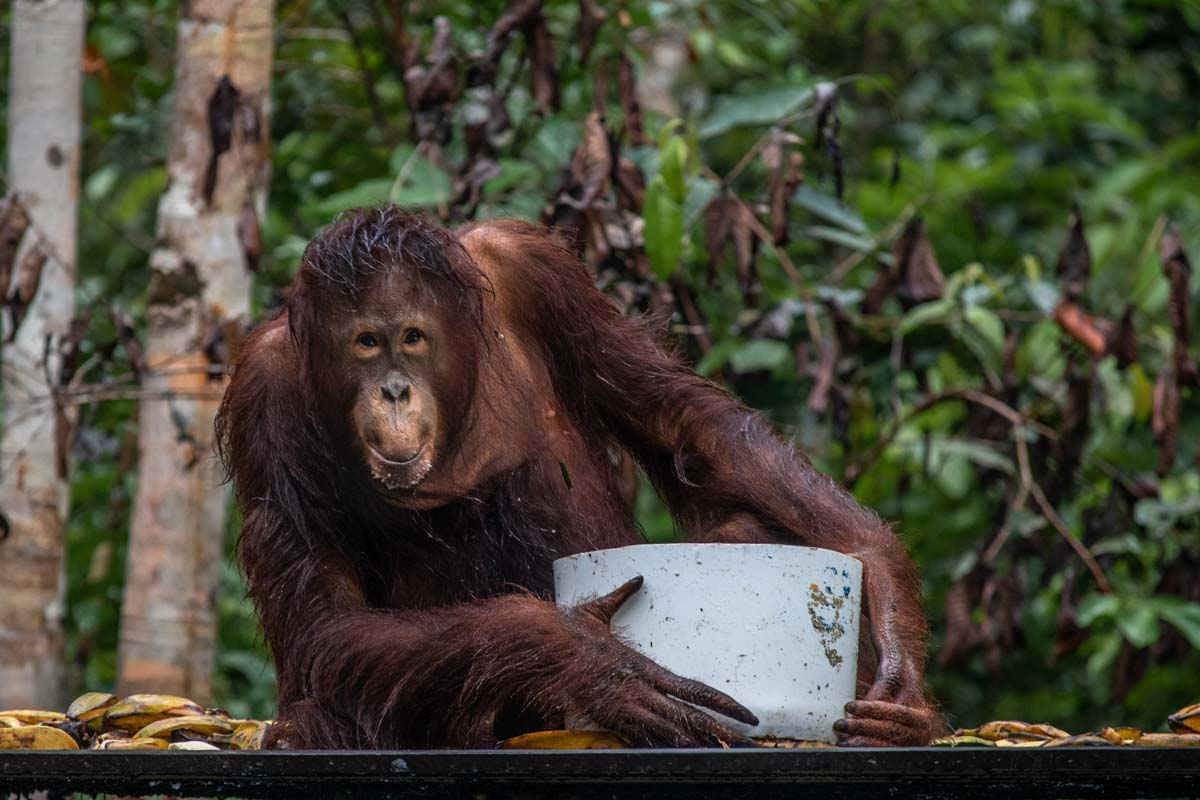Orangutan: (226, 209, 935, 750)
